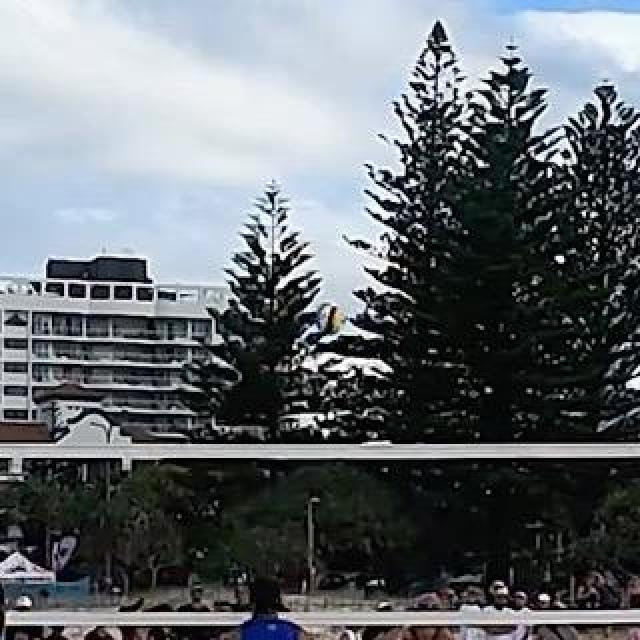volleyball: (319, 305, 343, 333)
